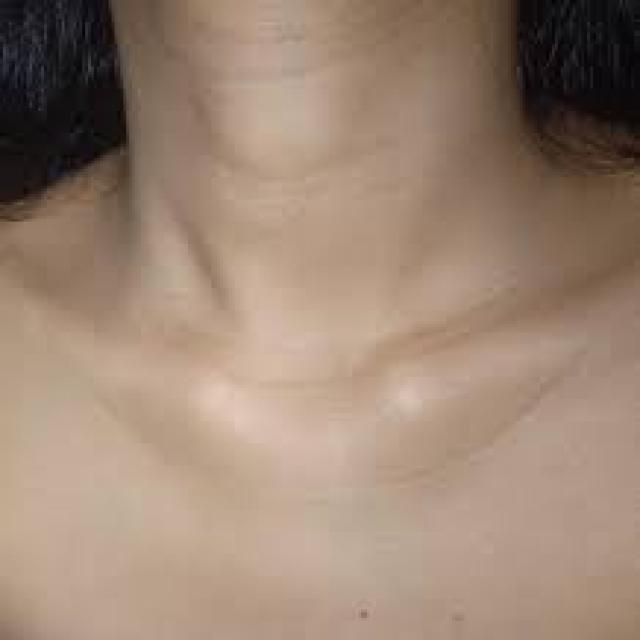Healthy: (6, 2, 640, 473)
